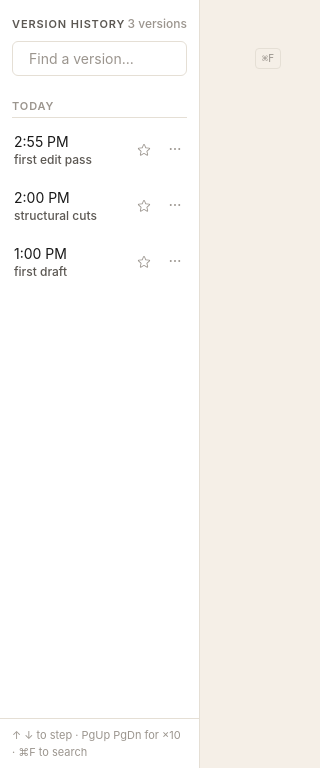
Test: <ArticleHistoryPanel> › search input filters rows by label substring (case-insensitive)
In the field with test id "article-history-search": (138,58) top-left (21, 42), bottom-right (255, 75), type "First"
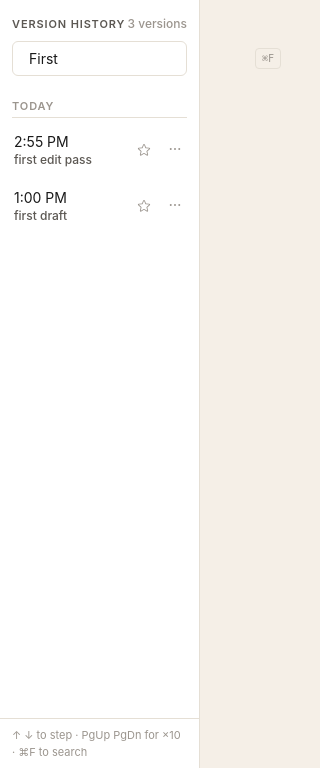
Expected: the button with test id "article-history-row-s1" is shown, top-left (0, 122), bottom-right (199, 178)
Now the button with test id "article-history-row-s2" is gone
